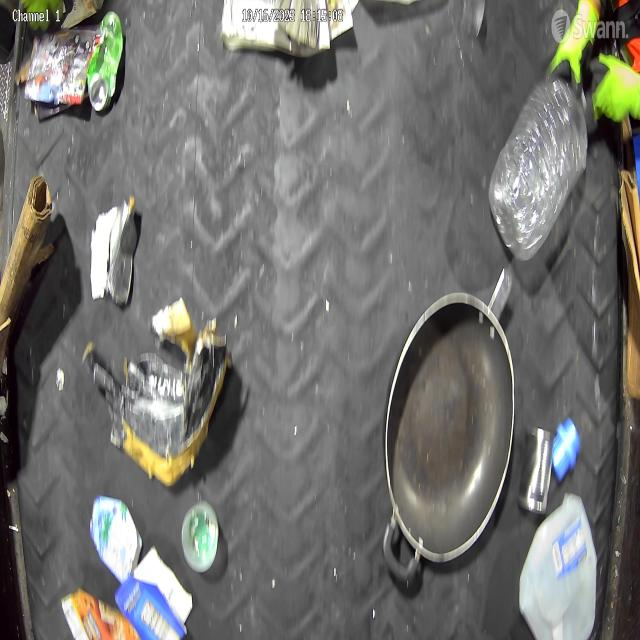can: (101, 198, 140, 306), (86, 10, 125, 113), (517, 423, 554, 515)
milk_jug: (518, 490, 597, 640)
plastic_bottle: (488, 79, 588, 260)
